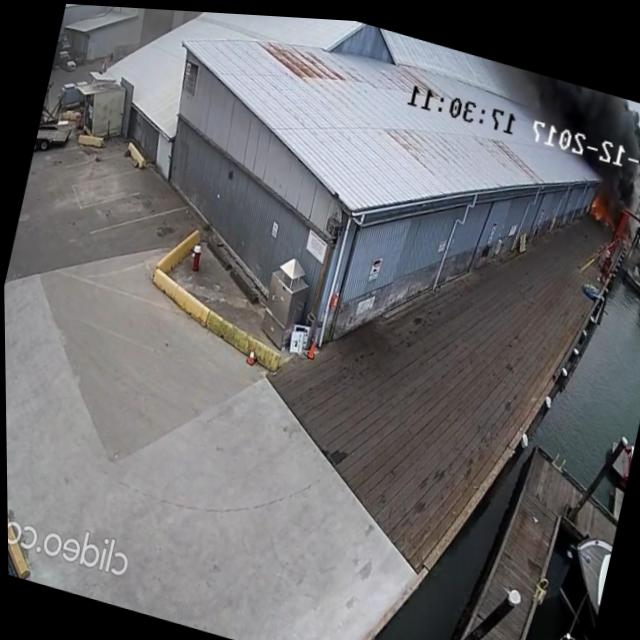fire: (585, 186, 616, 218)
